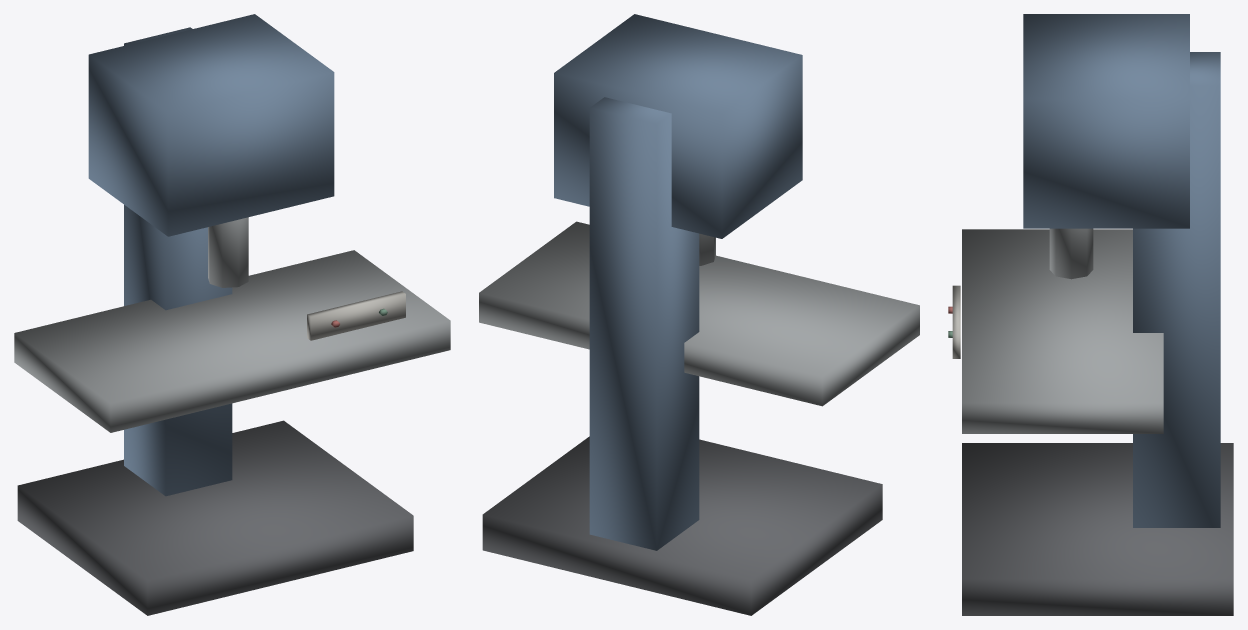
The model's file is milling_machine_silhouette__squat.glb.
3 renders of one model, left to right at view 1: azimuth 30°, elevation 25°; view 2: azimuth 150°, elevation 25°; view 3: azimuth 270°, elevation 25°, orthographic. The views are drawn at different scales.
Visible parts, largest first — view 1: world; view 2: world; view 3: world.
Part boxes in pixels (x1,y1,x2,y2): world: [14, 14, 450, 615]; world: [479, 14, 919, 615]; world: [948, 14, 1233, 615].
Size of the model in its own units: 1.01 by 1.34 by 0.7031.
